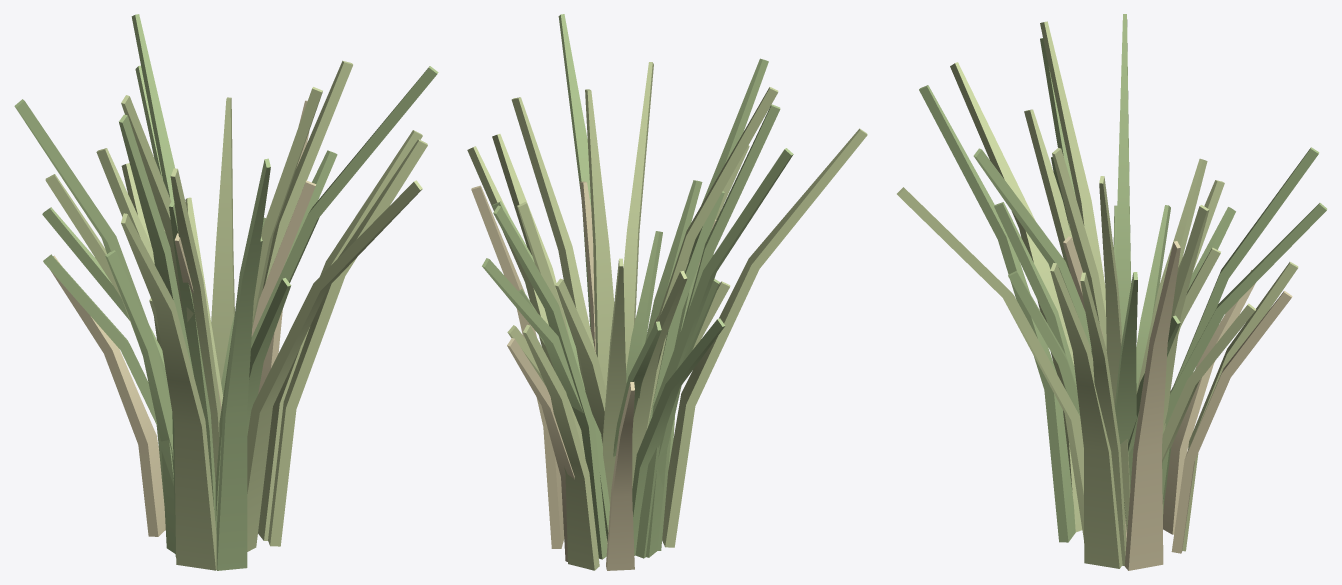
Rendered from DuneGrassTall.fbx.
3 renders of one model, left to right at view 1: azimuth 30°, elevation 25°; view 2: azimuth 150°, elevation 25°; view 3: azimuth 270°, elevation 25°, orthographic. The views are drawn at different scales.
Visible parts, largest first — view 1: DuneGrassTall; view 2: DuneGrassTall; view 3: DuneGrassTall.
Part boxes in pixels (x1,y1,x2,y2): DuneGrassTall: [14, 14, 438, 570]; DuneGrassTall: [467, 14, 867, 570]; DuneGrassTall: [897, 14, 1327, 570].
Bounding box in the file's own units: 0.8163 × 1.03 × 0.8704.
